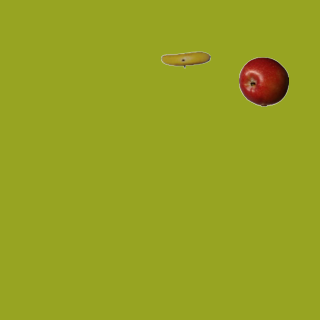Apple Braeburn: (238, 56, 288, 106)
Banana: (160, 34, 210, 84)
